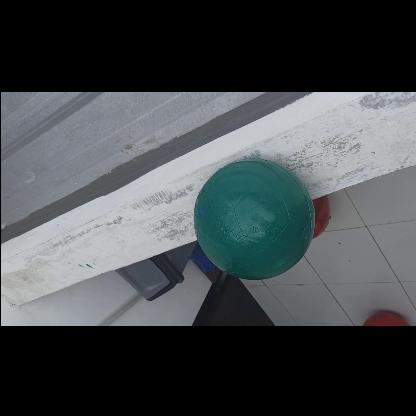green_ball: (192, 157, 312, 278)
